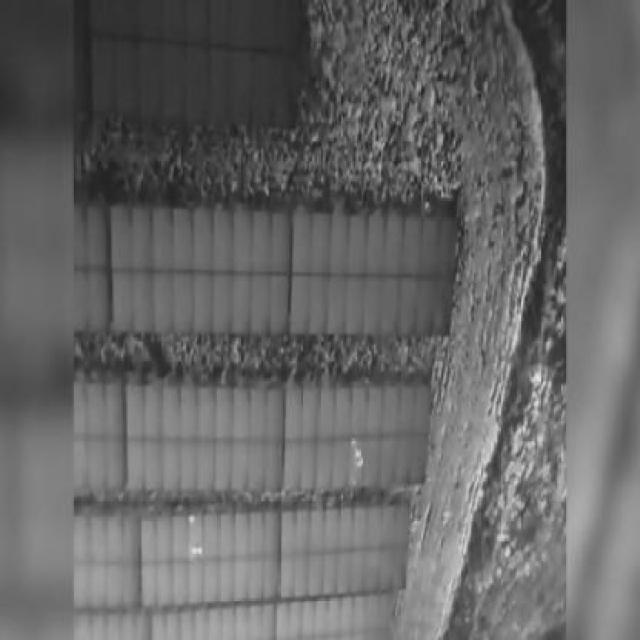hotspot: (355, 444, 362, 459), (188, 513, 195, 527), (356, 458, 362, 469), (351, 438, 357, 445), (192, 548, 198, 554), (198, 546, 202, 554)
